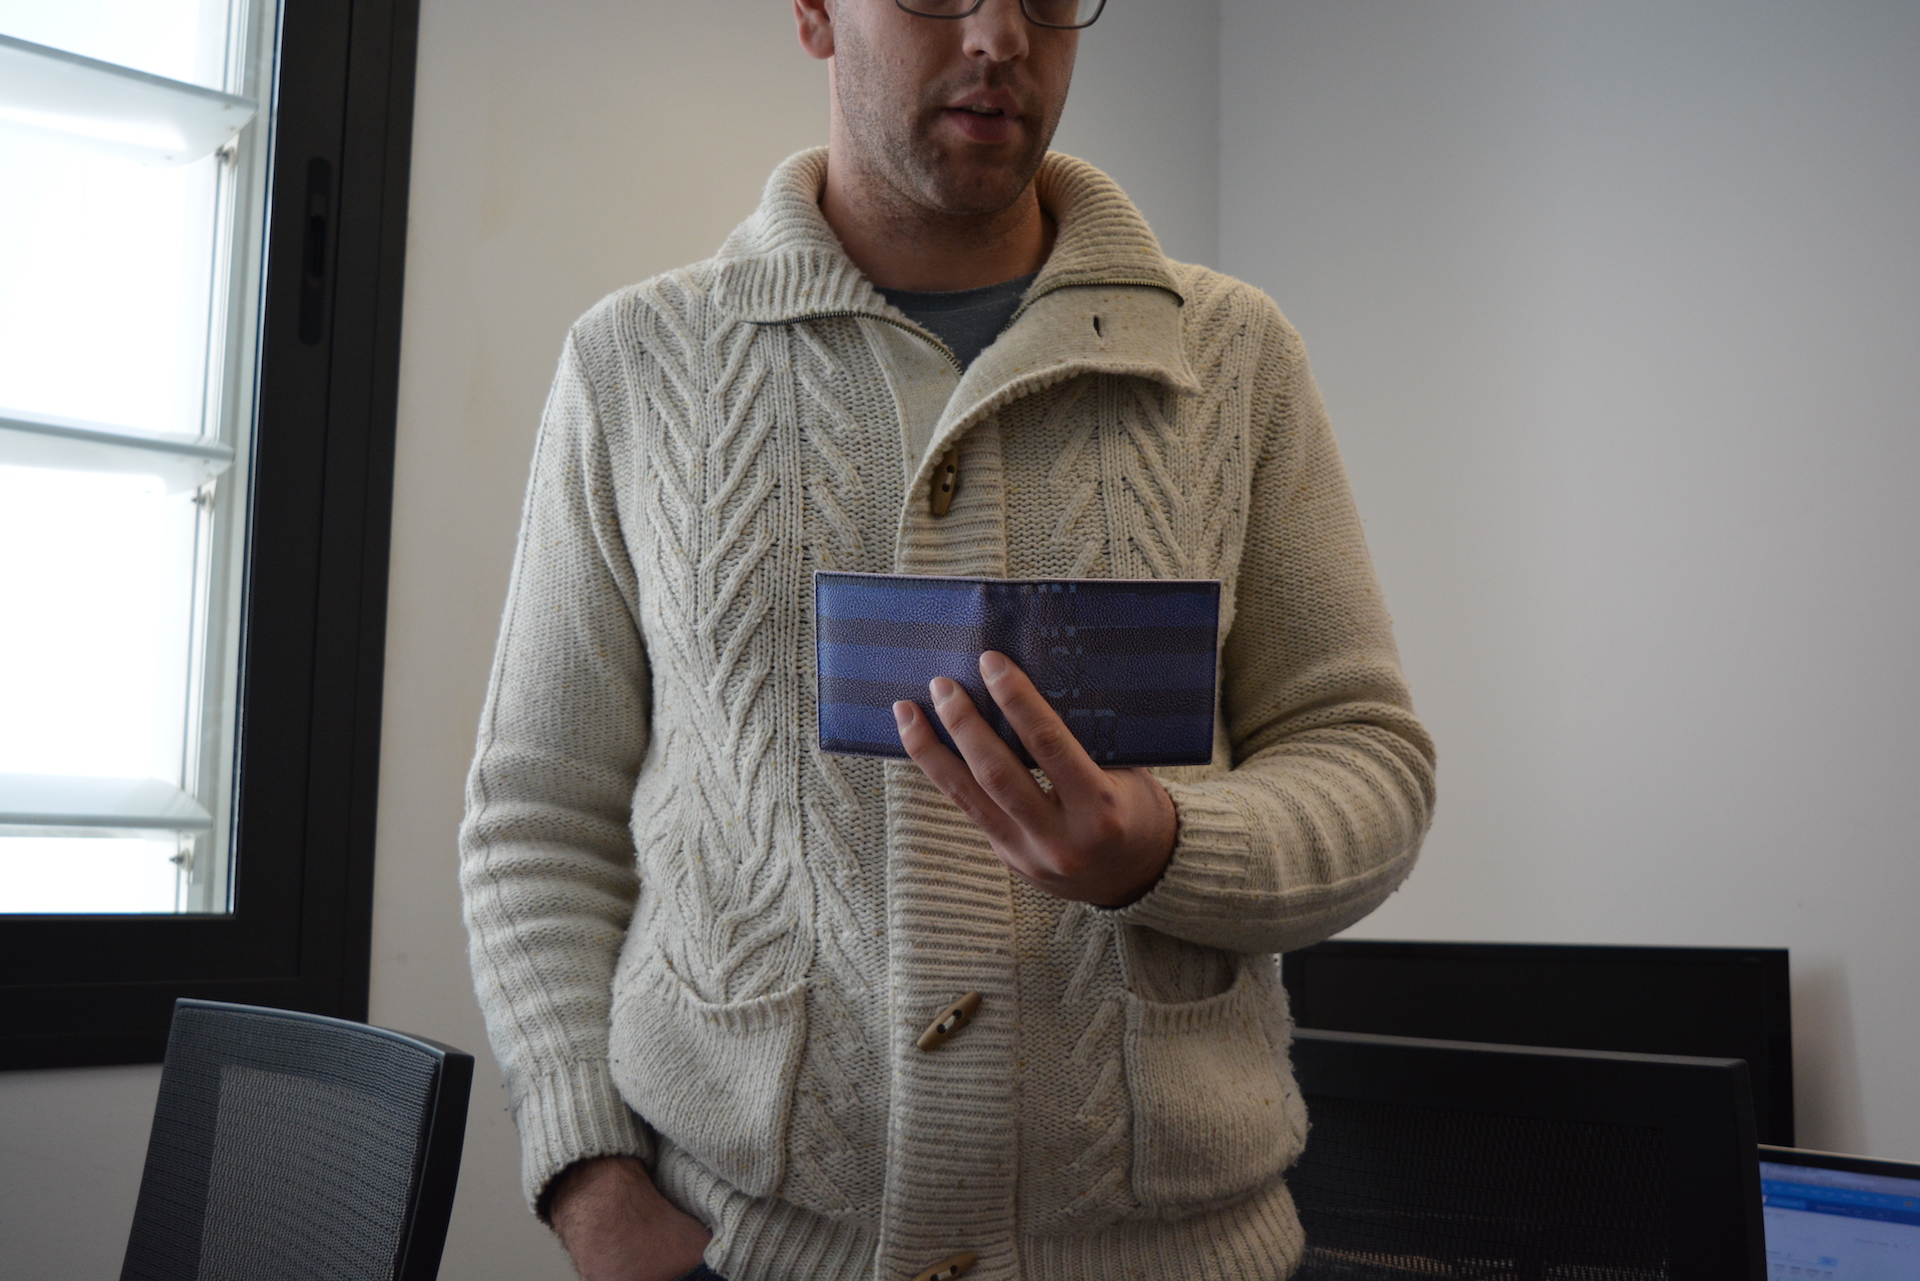monedero: (812, 568, 1222, 768)
